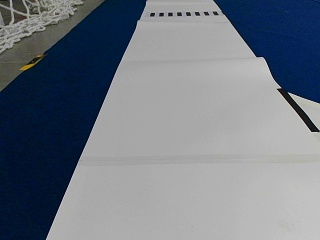crosswalk: (151, 10, 217, 16)
